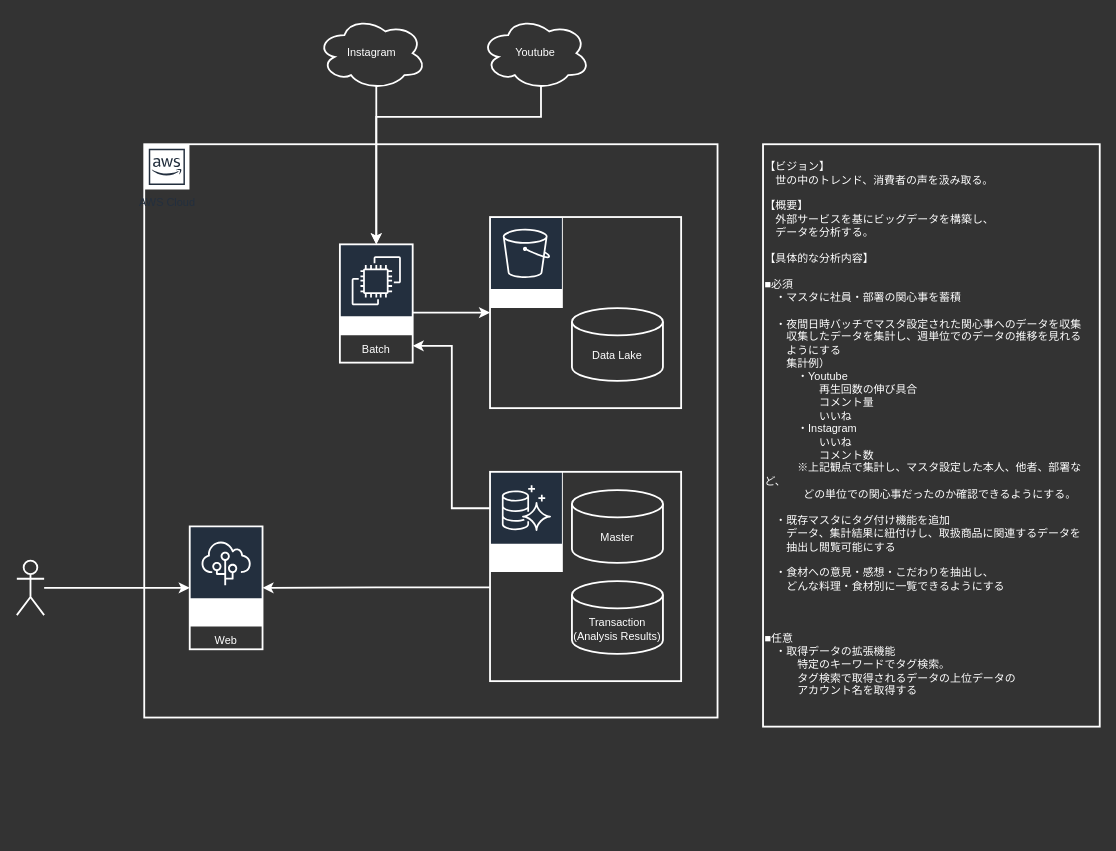
This 1116x851 diagram has some shape labels left out. Here are the shapes that lost their labels. From the top down, the centre of each, then its label:
point (526, 262): Amazon S3
point (376, 289): Amazon EC2
point (526, 521): Amazon Aurora
point (30, 587): User
point (225, 576): AWS Elastic Beanstalk
